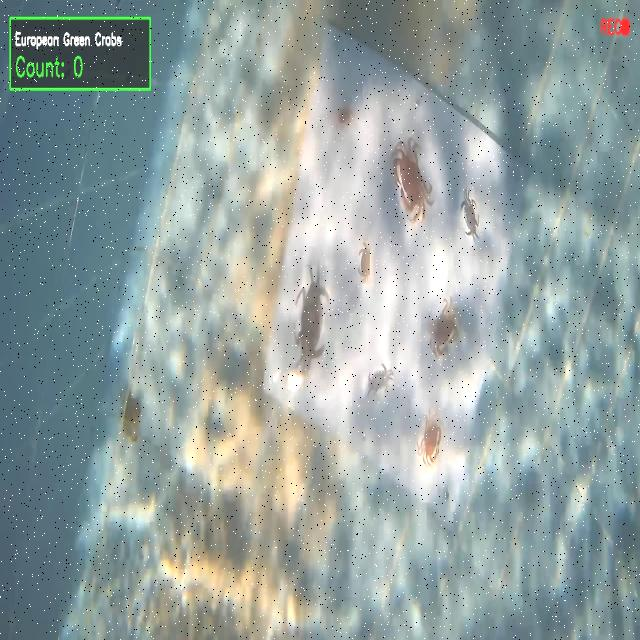European_Green_Crab: (288, 263, 330, 380), (455, 184, 485, 245), (364, 357, 396, 403)
